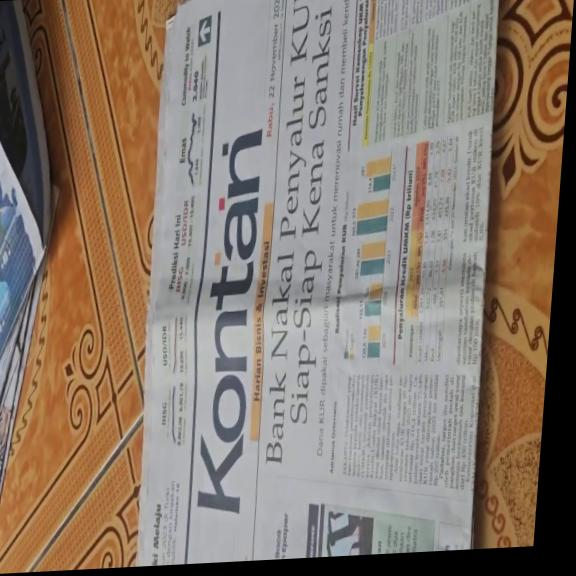Kertas: (131, 0, 510, 564)
